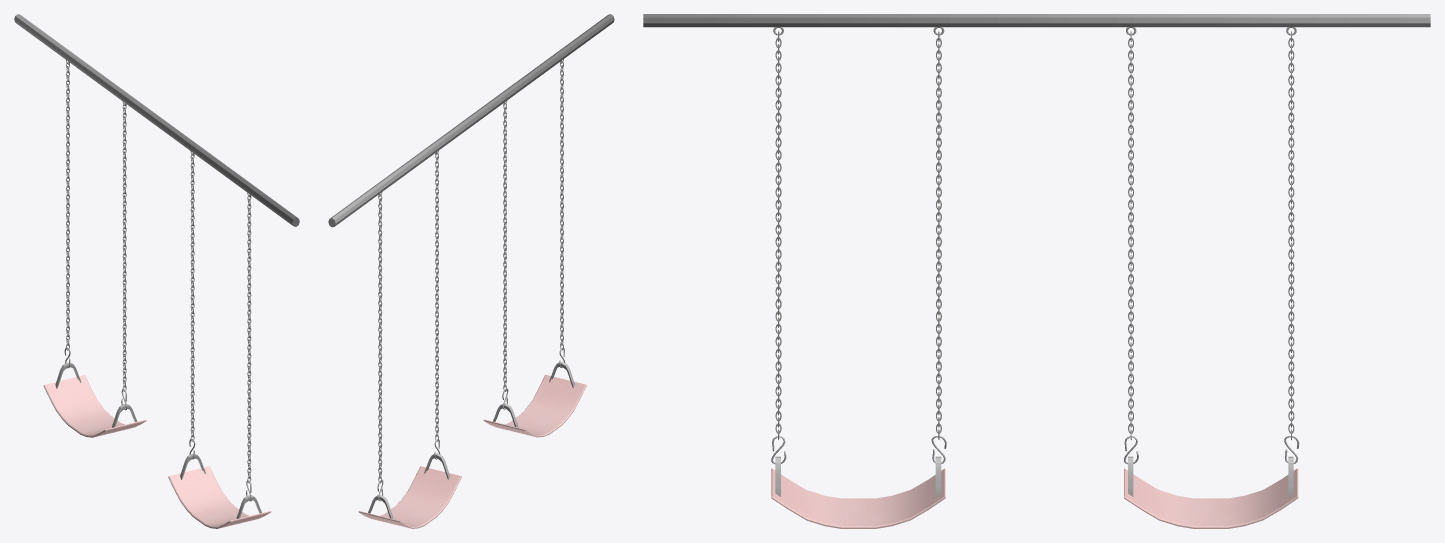
File: Final_swings 10_22.fbx
3 renders of one model, left to right at view 1: azimuth 30°, elevation 25°; view 2: azimuth 150°, elevation 25°; view 3: azimuth 270°, elevation 25°, orthographic. The views are drawn at different scales.
Visible parts, largest first — view 1: polySurface65, polySurface50, polySurface265; view 2: polySurface65, polySurface265, polySurface50; view 3: polySurface65, polySurface265, polySurface50.
Boxes of the visible parts, left/top/right/bottom form: polySurface65: left=14, top=14, right=299, bottom=226; polySurface50: left=168, top=466, right=271, bottom=528; polySurface265: left=43, top=375, right=146, bottom=437; polySurface65: left=328, top=14, right=614, bottom=227; polySurface265: left=358, top=466, right=461, bottom=528; polySurface50: left=483, top=374, right=586, bottom=437; polySurface65: left=643, top=14, right=1430, bottom=27; polySurface265: left=1124, top=468, right=1298, bottom=528; polySurface50: left=771, top=468, right=945, bottom=528.
Bounding box in the file's own units: 0.0095 × 0.0777 × 0.1106.
5 materials, 5 textured.
